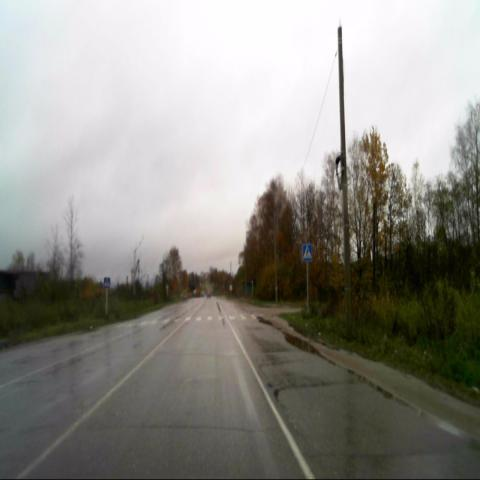5_19_1: (301, 242, 312, 262), (103, 276, 111, 289)
